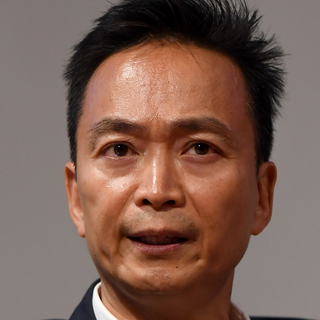eye: (178, 138, 226, 163), (98, 138, 142, 164)
